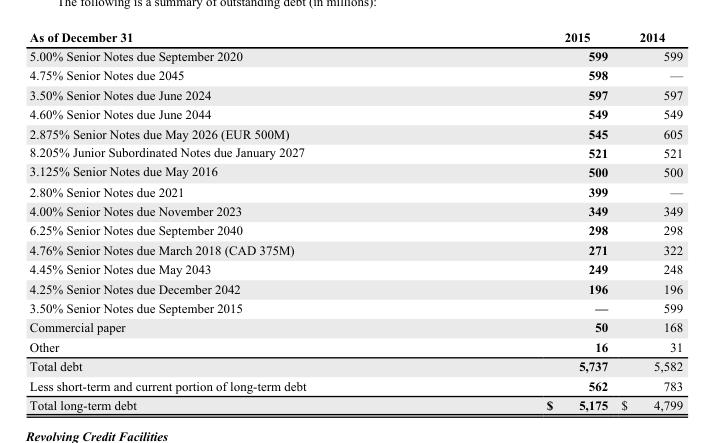table: (28, 29, 682, 411)
table column: (28, 29, 425, 411), (425, 29, 613, 411), (613, 29, 682, 411)
table column header: (28, 29, 682, 45)
table row: (28, 45, 682, 65), (28, 84, 682, 104), (28, 161, 682, 181), (28, 181, 682, 201), (28, 239, 682, 259), (28, 297, 682, 317), (28, 336, 682, 356), (28, 65, 682, 84), (28, 104, 682, 123), (28, 123, 682, 142), (28, 142, 682, 161), (28, 201, 682, 220), (28, 220, 682, 239), (28, 259, 682, 278), (28, 278, 682, 297), (28, 317, 682, 336), (28, 356, 682, 375), (28, 375, 682, 394), (28, 394, 682, 411), (28, 29, 682, 45)
